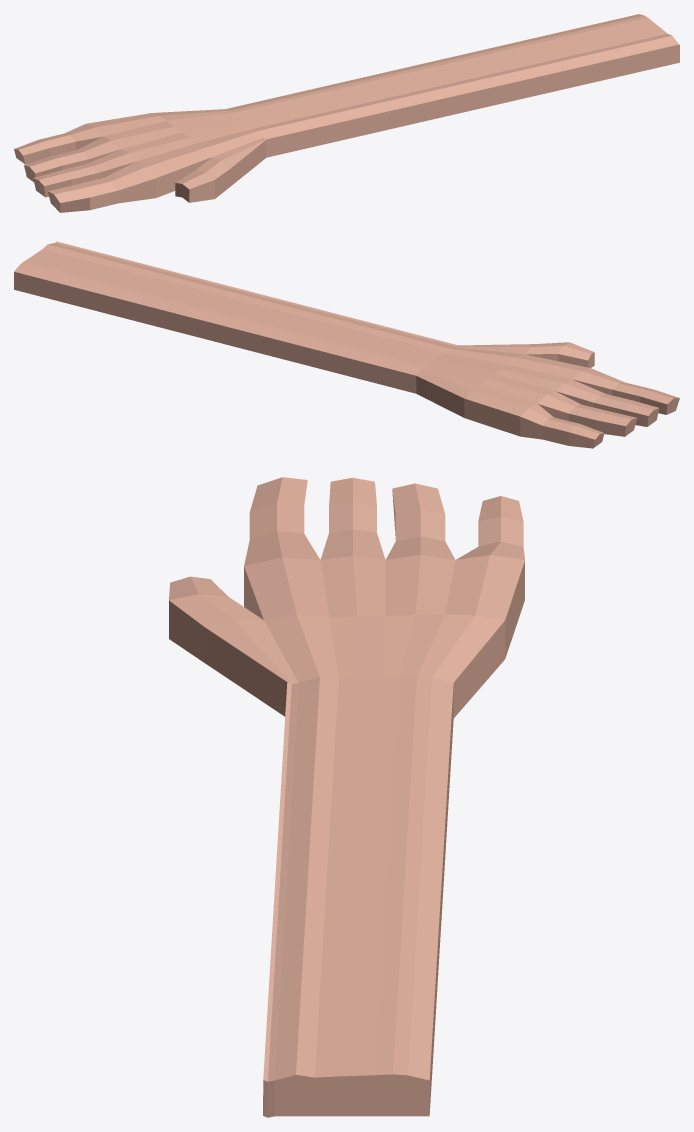
Rendered from hand.fbx.
3 renders of one model, top to bottom at view 1: azimuth 30°, elevation 25°; view 2: azimuth 150°, elevation 25°; view 3: azimuth 270°, elevation 25°, orthographic. The views are drawn at different scales.
Visible parts, largest first — view 1: Cube; view 2: Cube; view 3: Cube.
Boxes of the visible parts, x1,y1,x2,y2 form: Cube: (14,14,679,212); Cube: (14,241,679,448); Cube: (169,477,524,1117).
Size of the model in its own units: 555 by 21.8 by 138.
